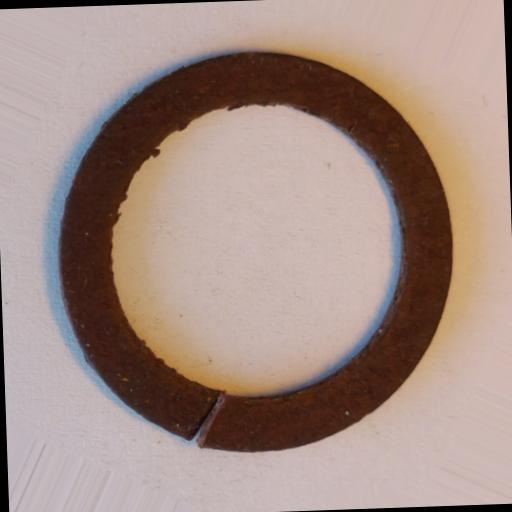defect: (186, 390, 226, 448)
